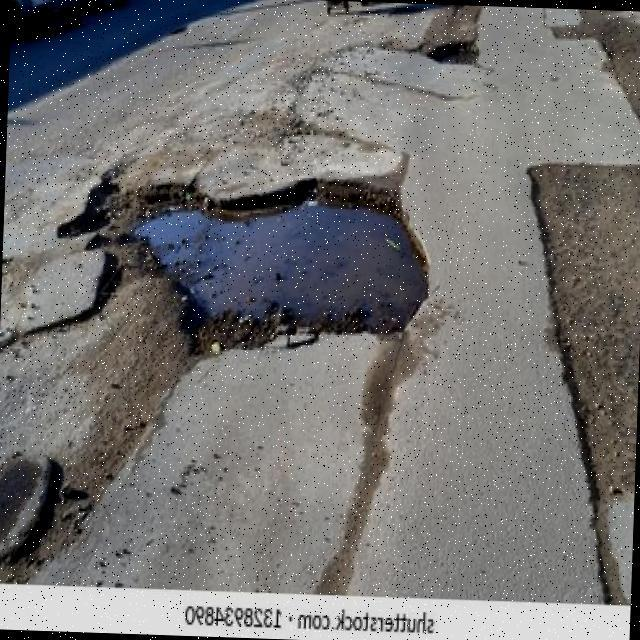Pothole: (48, 173, 428, 353)
